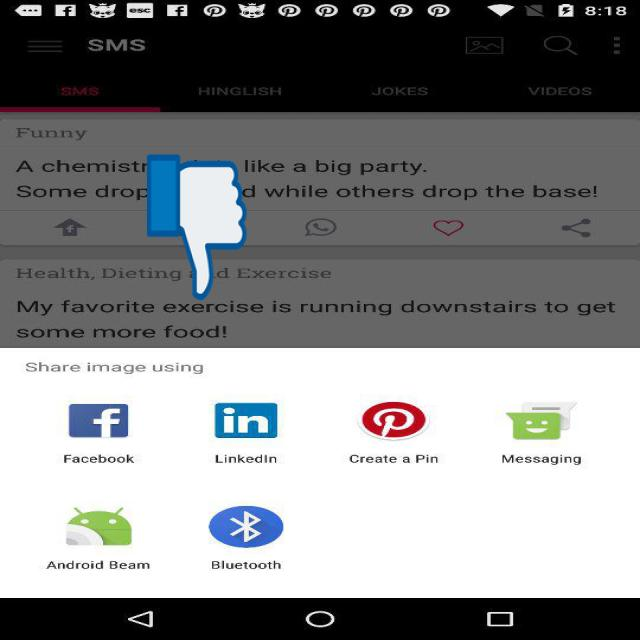obstruction: (147, 152, 246, 304)
